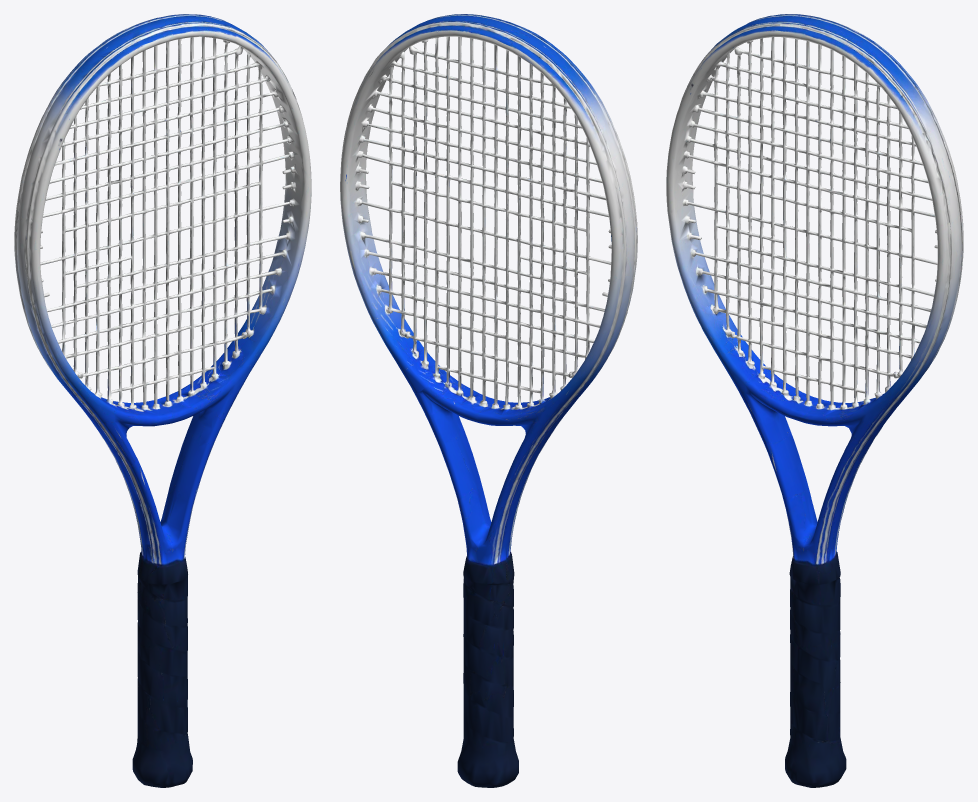
Rendered from racket-white.glb.
3 views of the same model, side by side, from view 1: azimuth 30°, elevation 25°; view 2: azimuth 150°, elevation 25°; view 3: azimuth 330°, elevation 25° (orthographic).
Size of the model in its own units: 0.7548 by 1.9 by 0.1389.
1 material, 1 textured.
